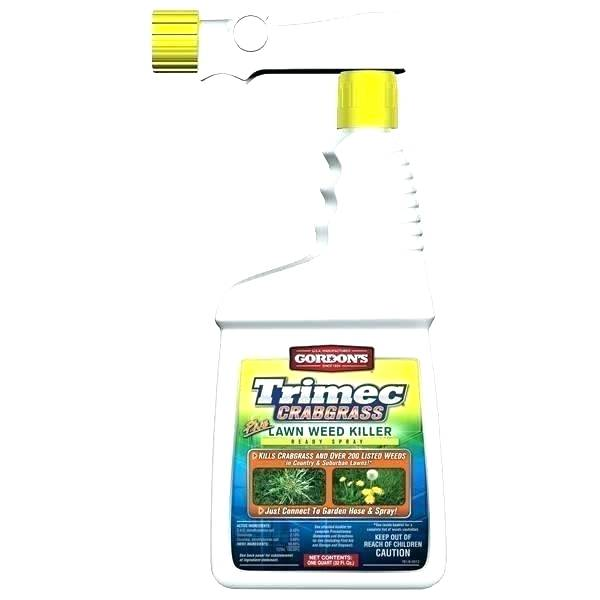crabgrass: (259, 461, 320, 508)
